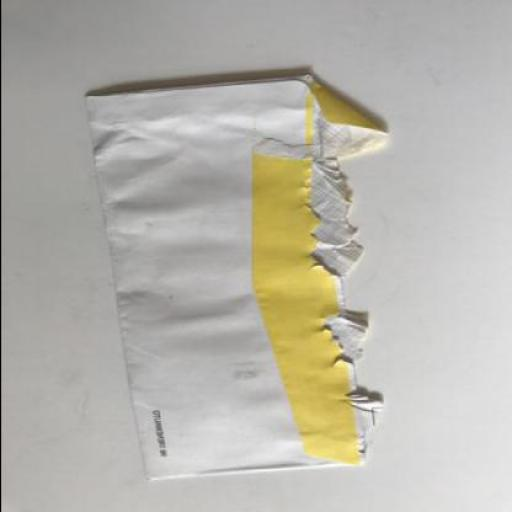paper: (81, 77, 389, 482)
